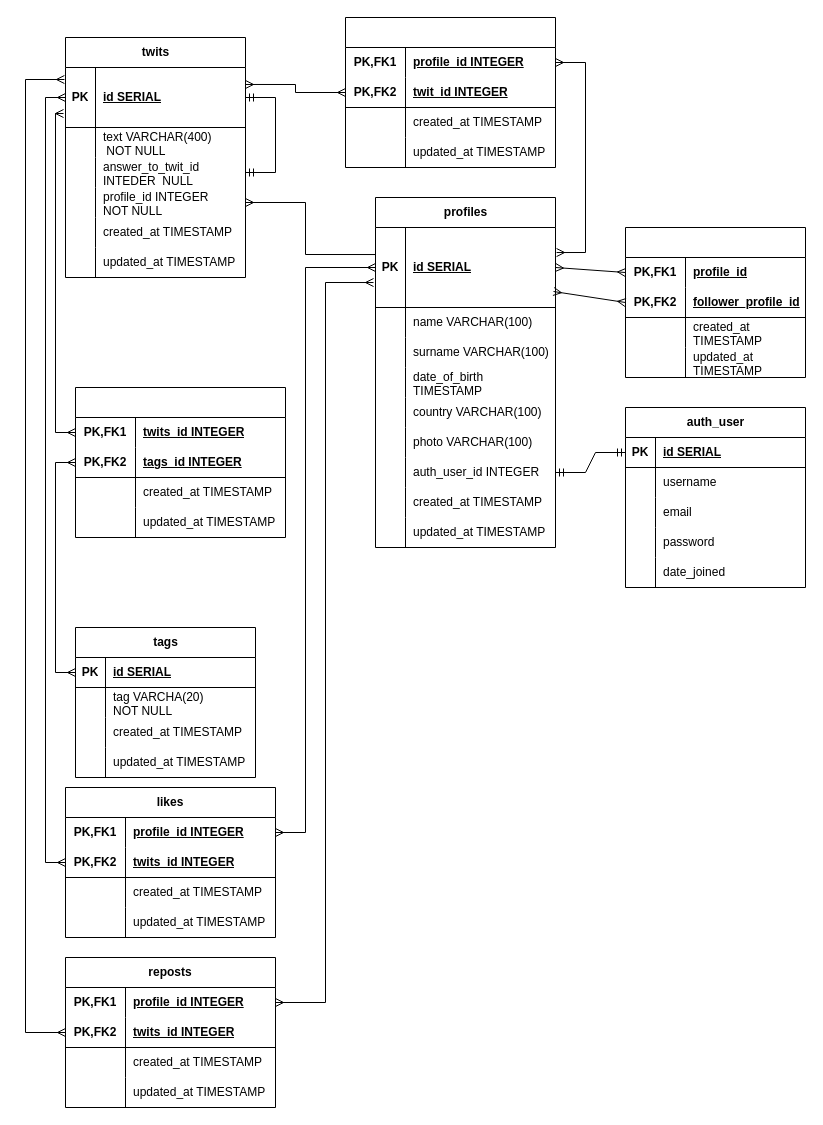
Image size: 823x1125. Some labels were removed from this diagram. Here are the shapes that lost their labels. From the top down, the box of each, then its label:
(344, 16, 556, 168): notifications
(624, 226, 806, 378): followers
(74, 386, 286, 538): twits_tags
